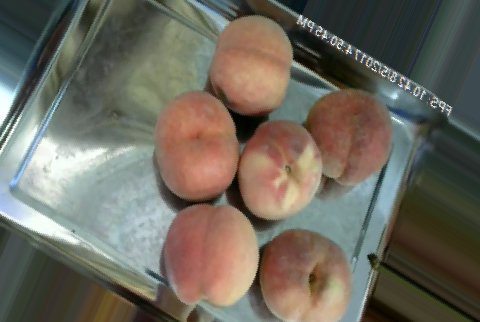Peach: (162, 203, 258, 306), (153, 89, 236, 201), (255, 228, 351, 322), (235, 119, 322, 222), (304, 87, 392, 187), (210, 15, 293, 114)
